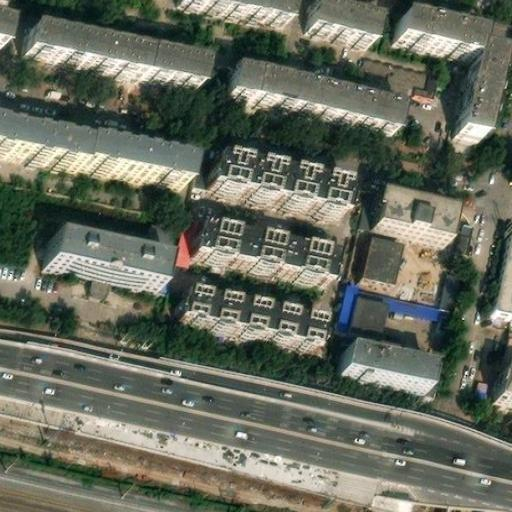building: (396, 6, 502, 132), (226, 61, 400, 131), (26, 20, 203, 83), (176, 282, 321, 348), (188, 216, 332, 276), (210, 145, 344, 204), (41, 233, 161, 290), (338, 282, 446, 336), (72, 136, 182, 187), (348, 52, 435, 102), (377, 184, 460, 234), (342, 341, 434, 384), (0, 123, 78, 166), (303, 0, 374, 42), (362, 228, 408, 279), (488, 225, 512, 321), (492, 337, 512, 405), (0, 5, 17, 44)
